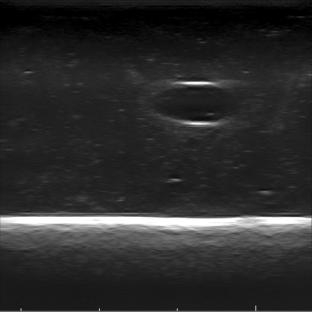vessel: (152, 80, 239, 129)
